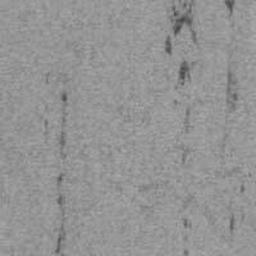Inclusion: (44, 90, 72, 256), (164, 0, 202, 56), (224, 67, 241, 115), (177, 58, 193, 87), (183, 218, 195, 256), (224, 0, 239, 18), (182, 147, 197, 163), (228, 211, 238, 232), (184, 108, 192, 134), (239, 180, 247, 195)
